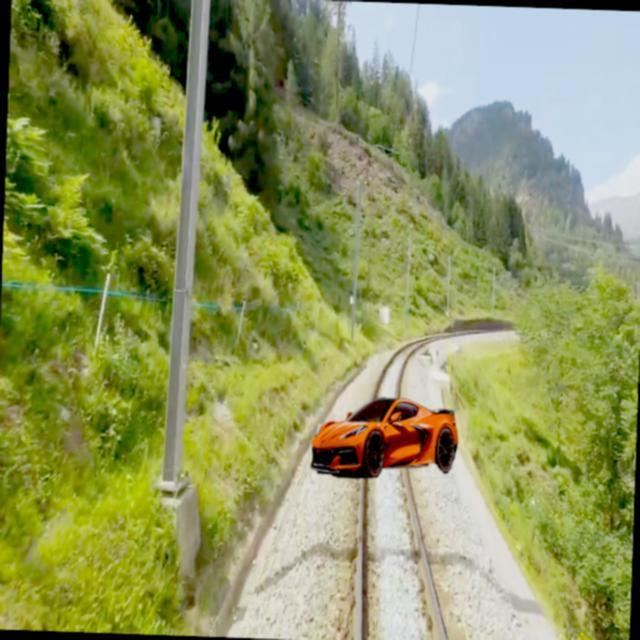rail: (327, 326, 521, 640)
